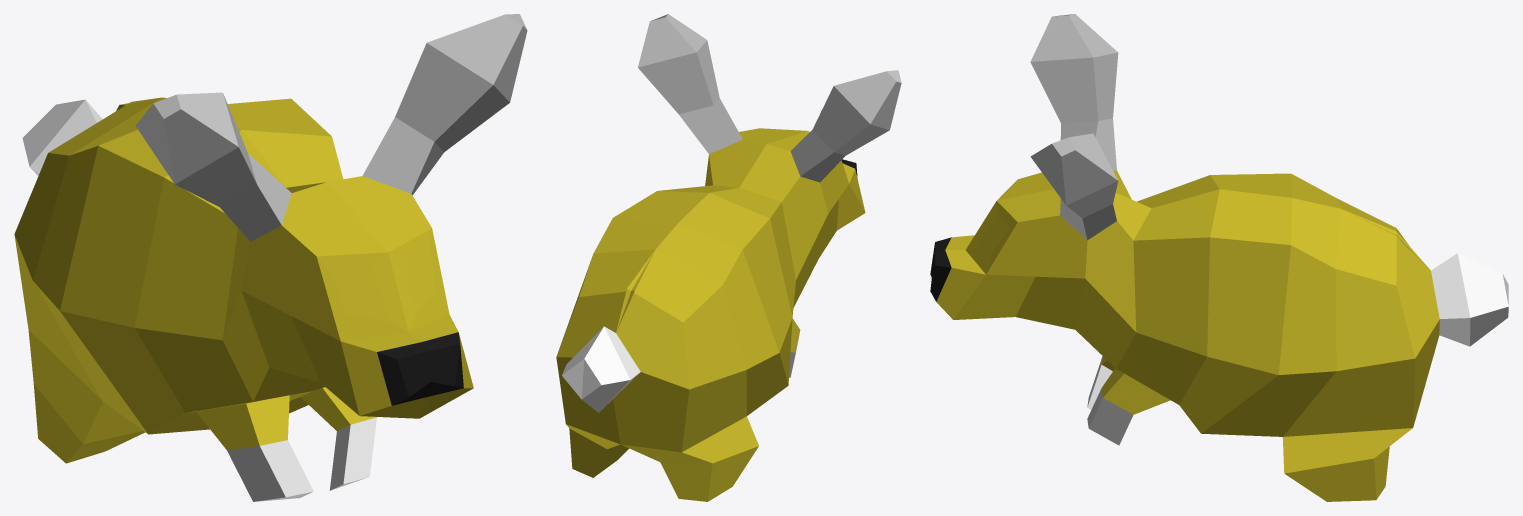
The model's file is Rabbit.fbx.
The picture shows the model from 3 angles, left to right: view 1: azimuth 30°, elevation 25°; view 2: azimuth 150°, elevation 25°; view 3: azimuth 270°, elevation 25°; orthographic projection. The views are drawn at different scales.
Visible parts, largest first — view 1: Rabbit; view 2: Rabbit; view 3: Rabbit.
Part boxes in pixels (bbox=[...]): Rabbit: bbox=[14, 14, 527, 501]; Rabbit: bbox=[556, 14, 901, 501]; Rabbit: bbox=[930, 14, 1508, 501].
Size of the model in its own units: 17.34 by 22.95 by 31.12.
